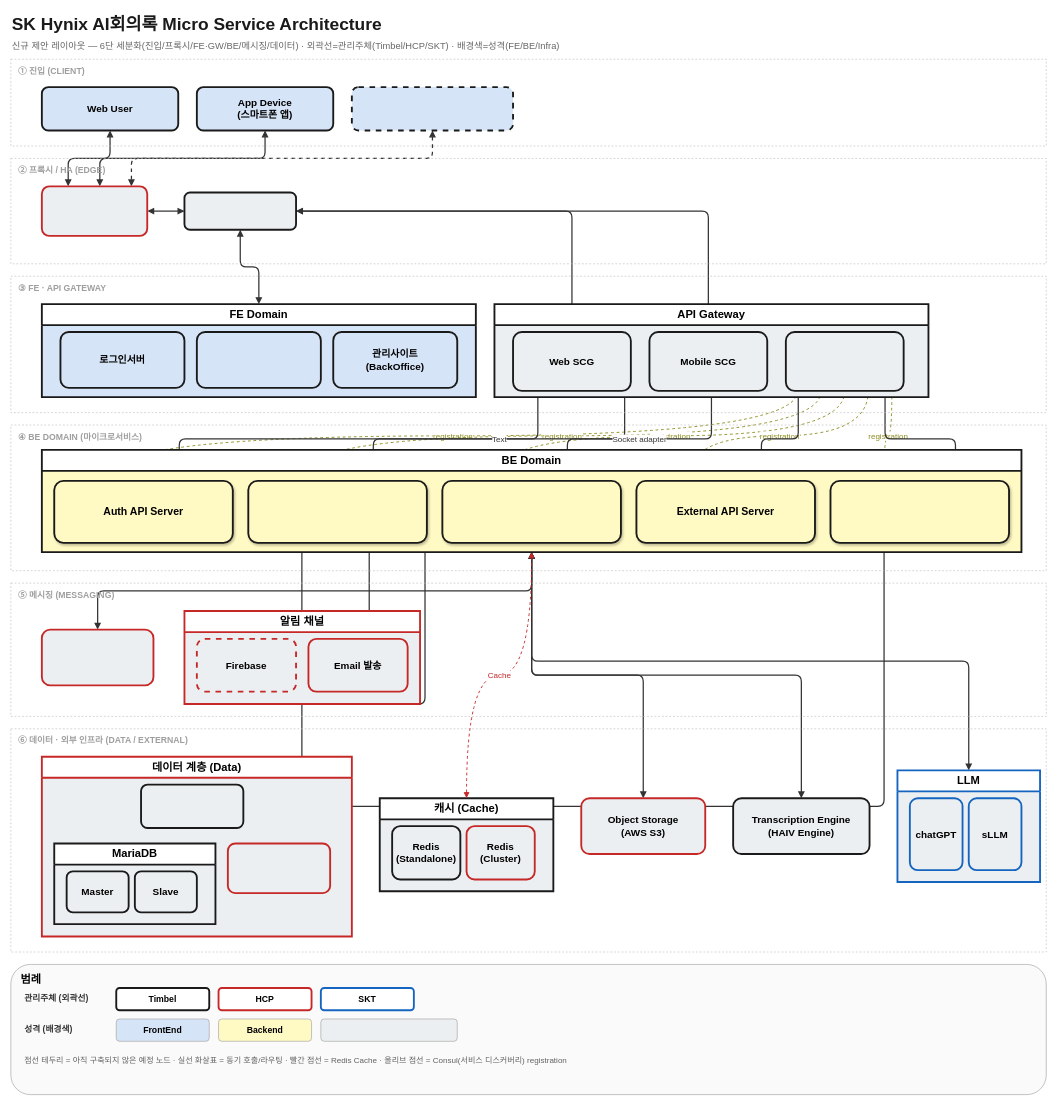
Image size: 1057x1105. Some labels were removed from this diagram. Here are the shapes that lost their labels. From the top down, the centre of each, then its label:
the point at 432,108: OS (Windows Application) (예정)
the point at 94,211: L4 스위치 (HA Proxy)
the point at 240,210: Nginx
the point at 258,359: 유저사이트 (회의록)
the point at 844,361: Consul
the point at 338,512: Main API Server
the point at 532,512: Notify API Server
the point at 920,512: Admin API Server
the point at 97,657: 메시징 (Kraft/Kafka)
the point at 192,806: Prisma (ORM)
the point at 279,868: MongoDB
the point at 388,1029: Infra (Proxy/HA·DB·Message·STT·외부연동)
